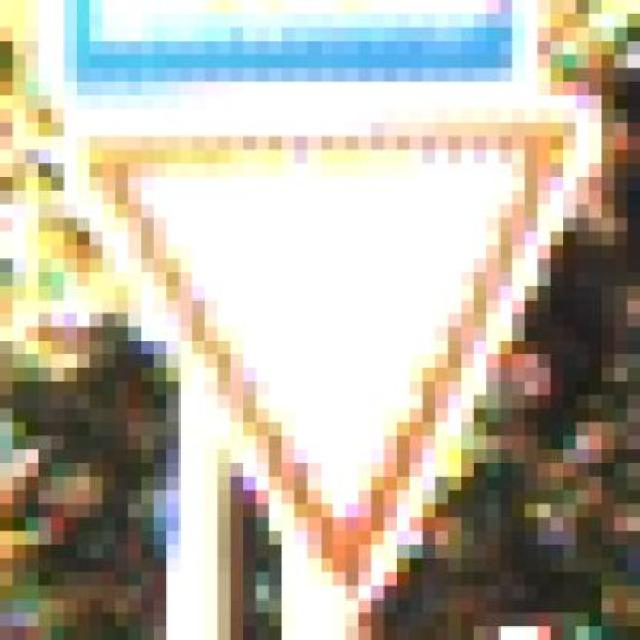Give Way: (38, 96, 628, 626)
